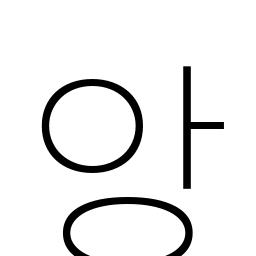Gaji: (161, 101, 212, 150)
